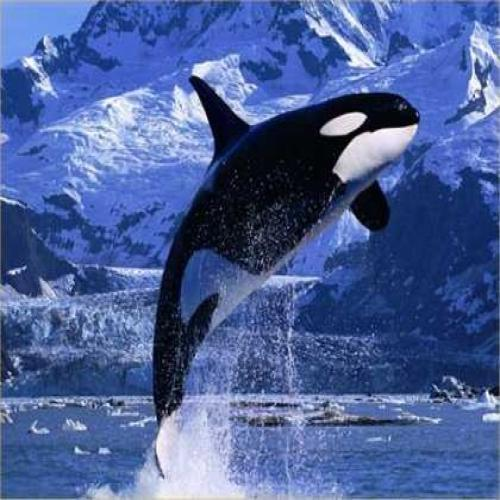killer_whale-endangered: (180, 56, 428, 319)
